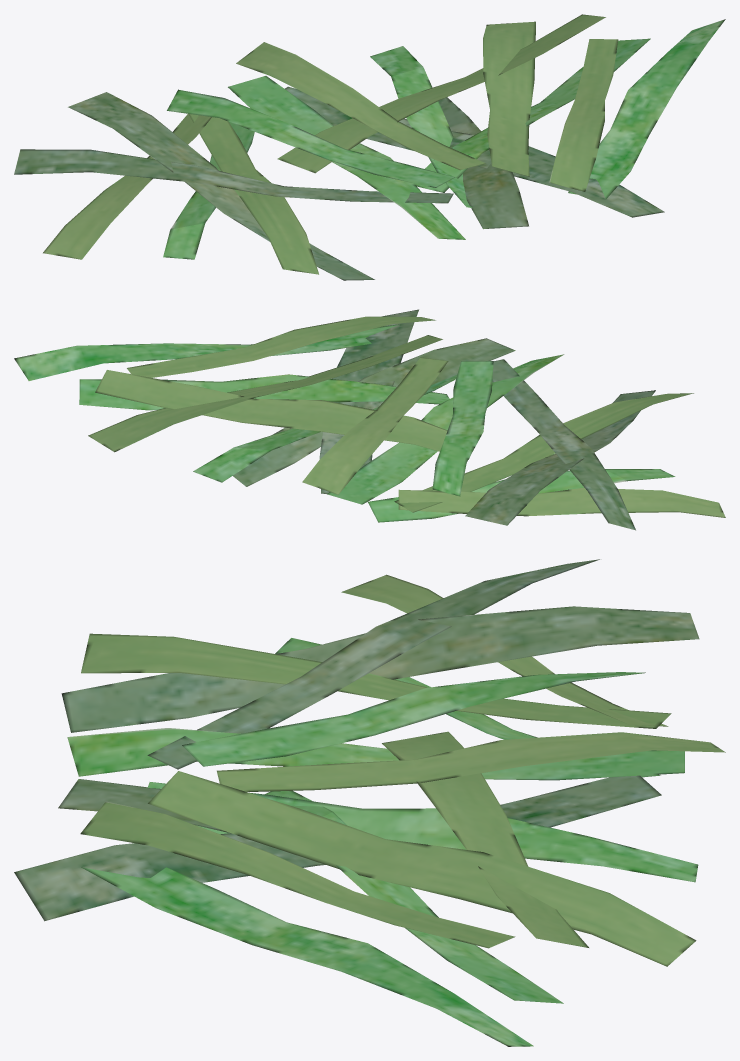
The model's file is daun bawang.fbx.
3 views of the same model, one above another, from view 1: azimuth 30°, elevation 25°; view 2: azimuth 150°, elevation 25°; view 3: azimuth 270°, elevation 25° (orthographic). The views are drawn at different scales.
Visible parts, largest first — view 1: Ase.001_Baked.010; view 2: Ase.001_Baked.010; view 3: Ase.001_Baked.010.
Part boxes in pixels (<box>): Ase.001_Baked.010: <box>14,14,725,280</box>; Ase.001_Baked.010: <box>14,309,725,530</box>; Ase.001_Baked.010: <box>14,559,725,1046</box>.
Size of the model in its own units: 108 by 8.94 by 63.74.
